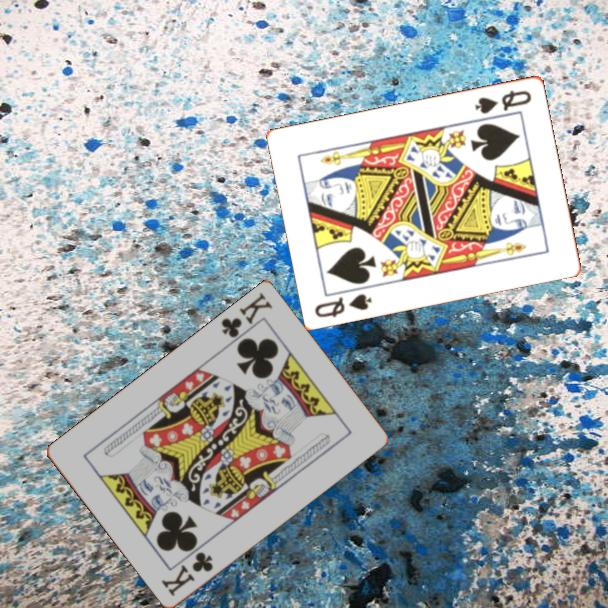c13: (217, 289, 276, 341), (158, 549, 216, 600)
s12: (471, 86, 535, 116), (311, 290, 375, 320)
